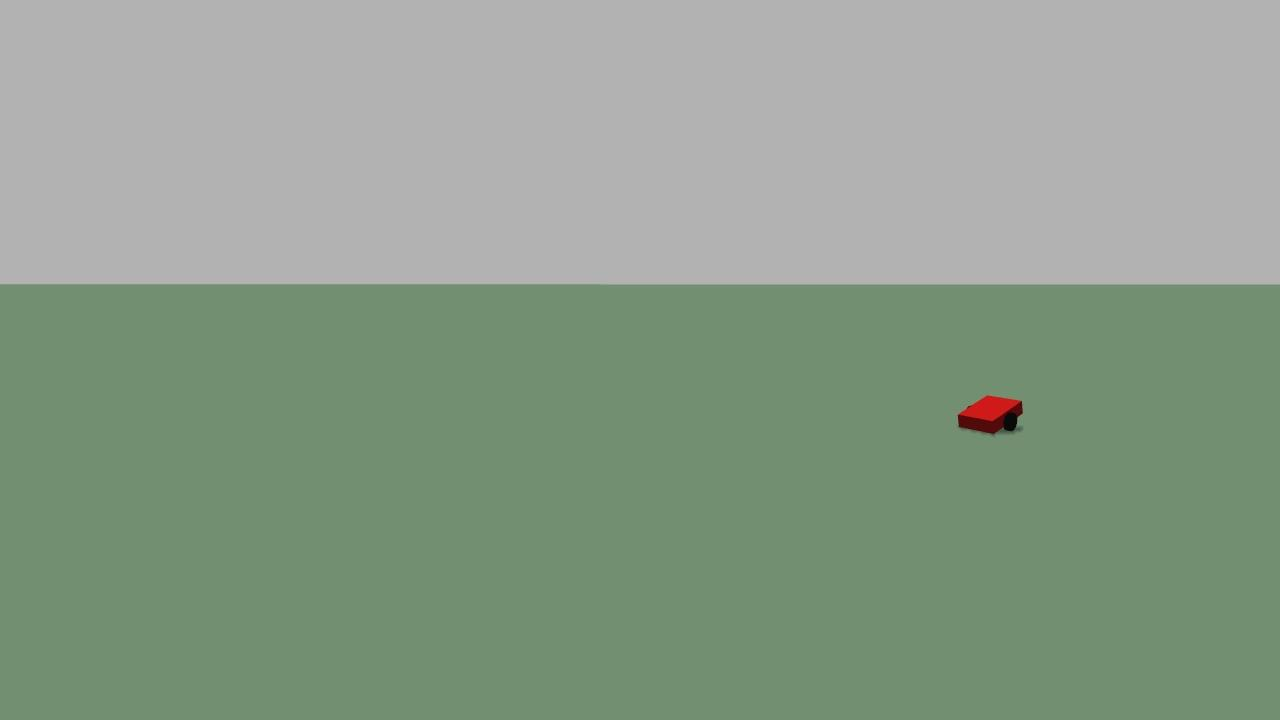ground_vehicle: (951, 387, 1031, 443)
